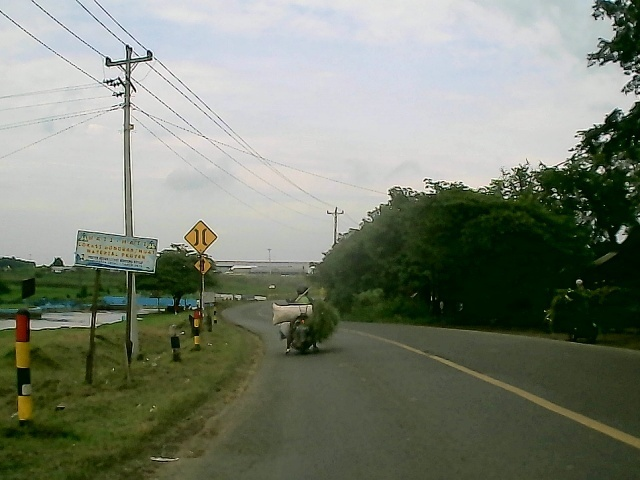Jembatan: (181, 217, 218, 255)
